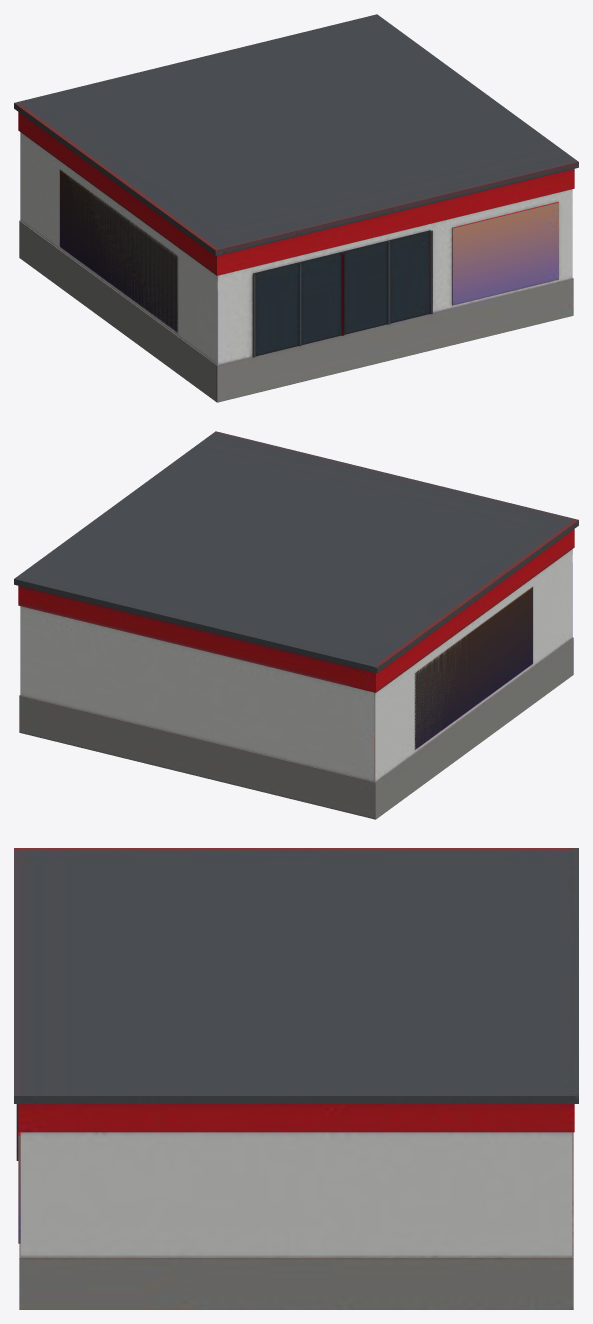
The model's file is orlen_sklep.glb.
The picture shows the model from 3 angles, top to bottom: view 1: azimuth 30°, elevation 25°; view 2: azimuth 150°, elevation 25°; view 3: azimuth 270°, elevation 25°; orthographic projection. The views are drawn at different scales.
Visible parts, largest first — view 1: orlen_sklep; view 2: orlen_sklep; view 3: orlen_sklep.
Boxes of the visible parts, x1,y1,x2,y2 form: orlen_sklep: [14, 14, 578, 402]; orlen_sklep: [14, 431, 578, 819]; orlen_sklep: [14, 848, 578, 1309].
Bounding box in the file's own units: 13.3 × 5.4 × 12.8.
1 material, 1 textured.
